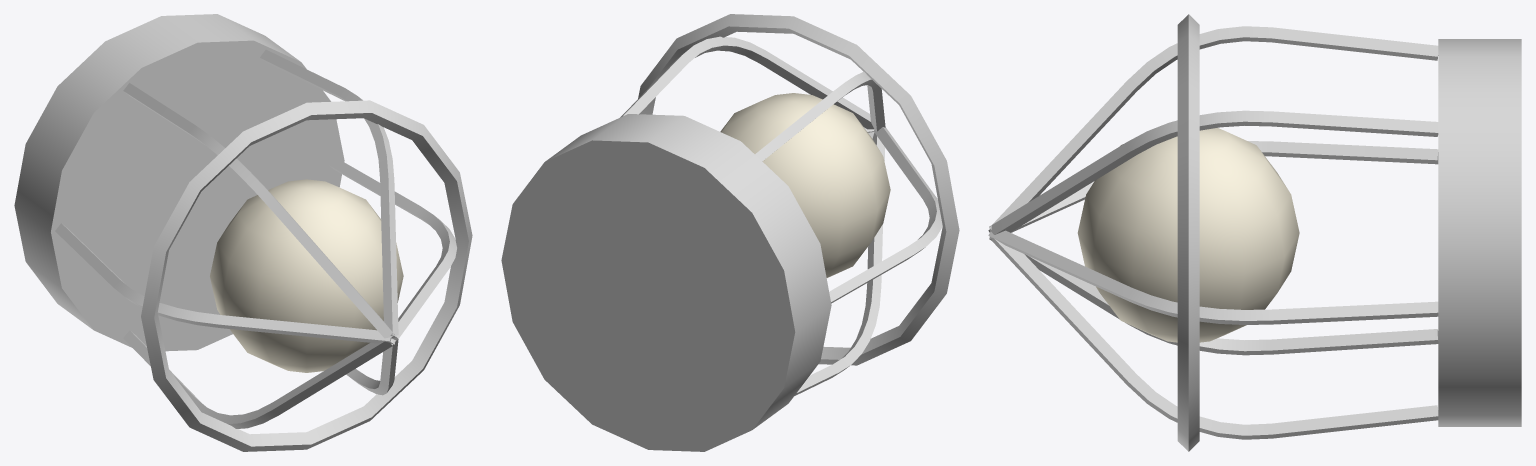
The model's file is SM_Lamp_Caged.fbx.
3 renders of one model, left to right at view 1: azimuth 30°, elevation 25°; view 2: azimuth 150°, elevation 25°; view 3: azimuth 270°, elevation 25°, orthographic. The views are drawn at different scales.
Parts seen in each view (by area): view 1: SM_Lamp_Caged_1; view 2: SM_Lamp_Caged_1; view 3: SM_Lamp_Caged_1.
Part boxes in pixels (x1,y1,x2,y2): SM_Lamp_Caged_1: (14, 14, 472, 451); SM_Lamp_Caged_1: (501, 14, 959, 451); SM_Lamp_Caged_1: (988, 14, 1521, 451).
Bounding box in the file's own units: 15.8 × 15.8 × 19.22.
